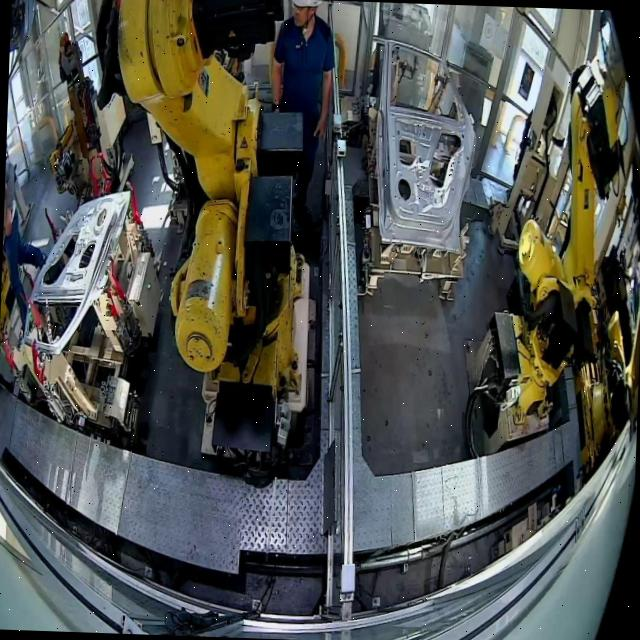Person: (267, 0, 337, 231), (0, 157, 51, 331), (58, 31, 84, 84)
